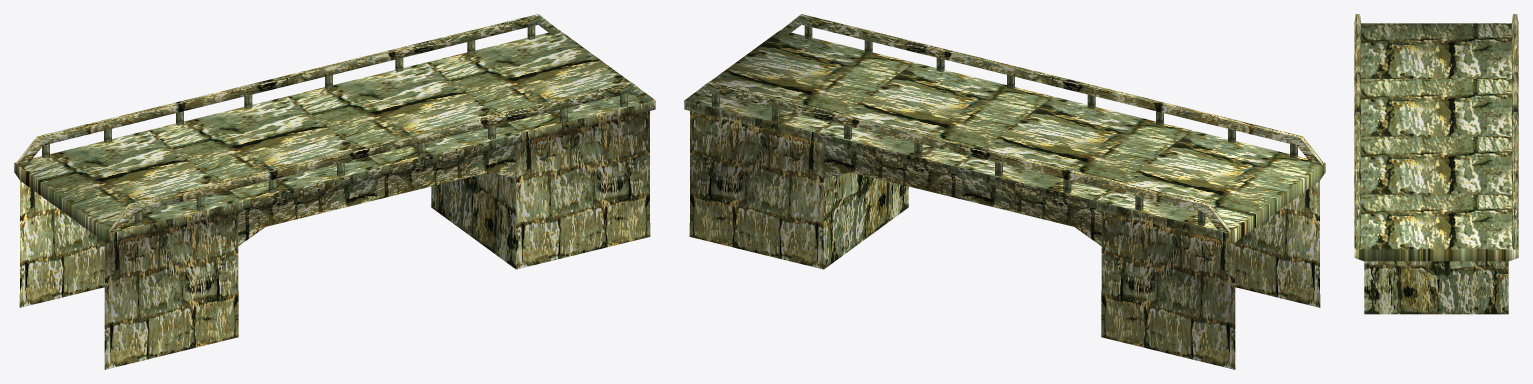
Rendered from ponte_textured.obj.
The picture shows the model from 3 angles, left to right: view 1: azimuth 30°, elevation 25°; view 2: azimuth 150°, elevation 25°; view 3: azimuth 270°, elevation 25°; orthographic projection. The views are drawn at different scales.
Parts seen in each view (by area): view 1: Opaque01; view 2: Opaque01; view 3: Opaque01.
Part boxes in pixels (x1,y1,x2,y2): Opaque01: (14,14,655,369); Opaque01: (684,14,1325,369); Opaque01: (1354,14,1518,314).
Bounding box in the file's own units: 31.71 × 9.02 × 9.7.
1 material, 1 textured.
